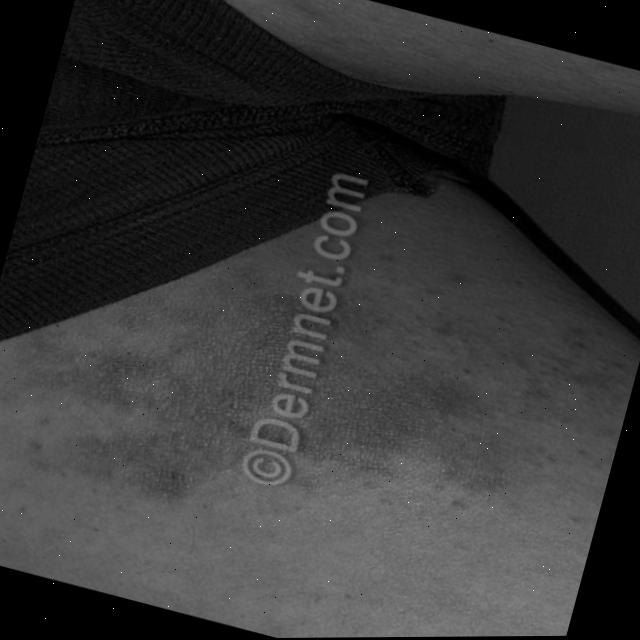Eczema: (24, 153, 640, 619)
